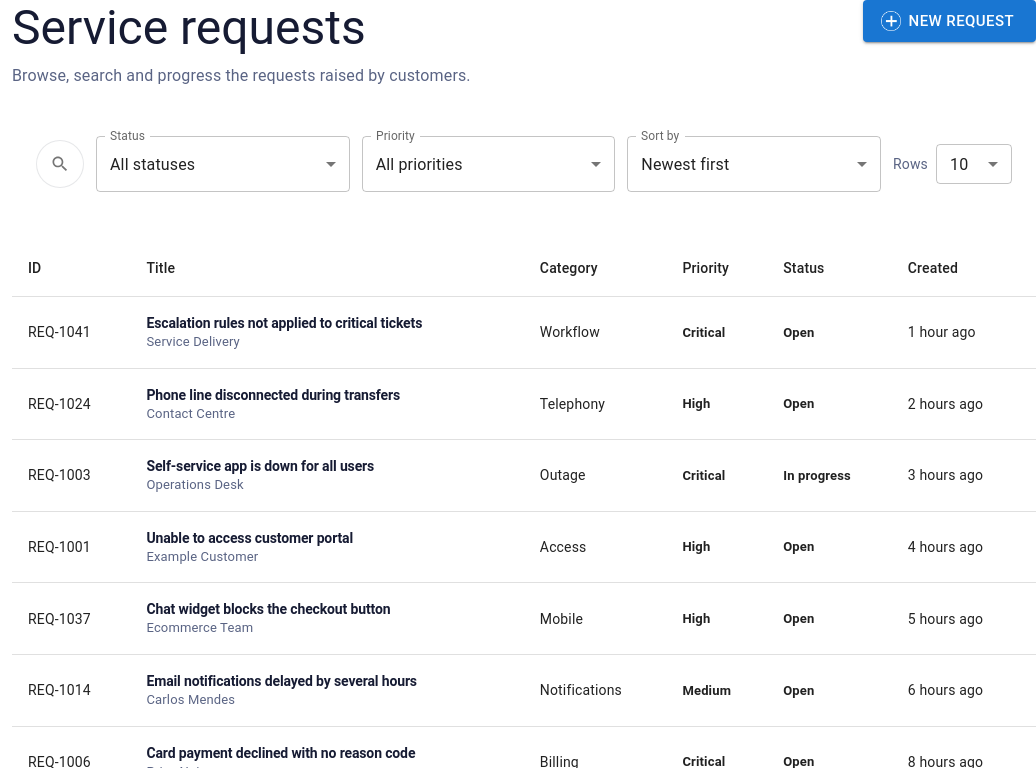
Test: RequestListPage › shows an empty state with a way back when nothing matches
The width and height of the screenshot is (1036, 768).
expect the text "REQ-1001" is shown: met, box top-left (12, 511), bottom-right (130, 583)
Click the button named "Search requests" at (60, 164), box top-left (36, 140), bottom-right (84, 188)
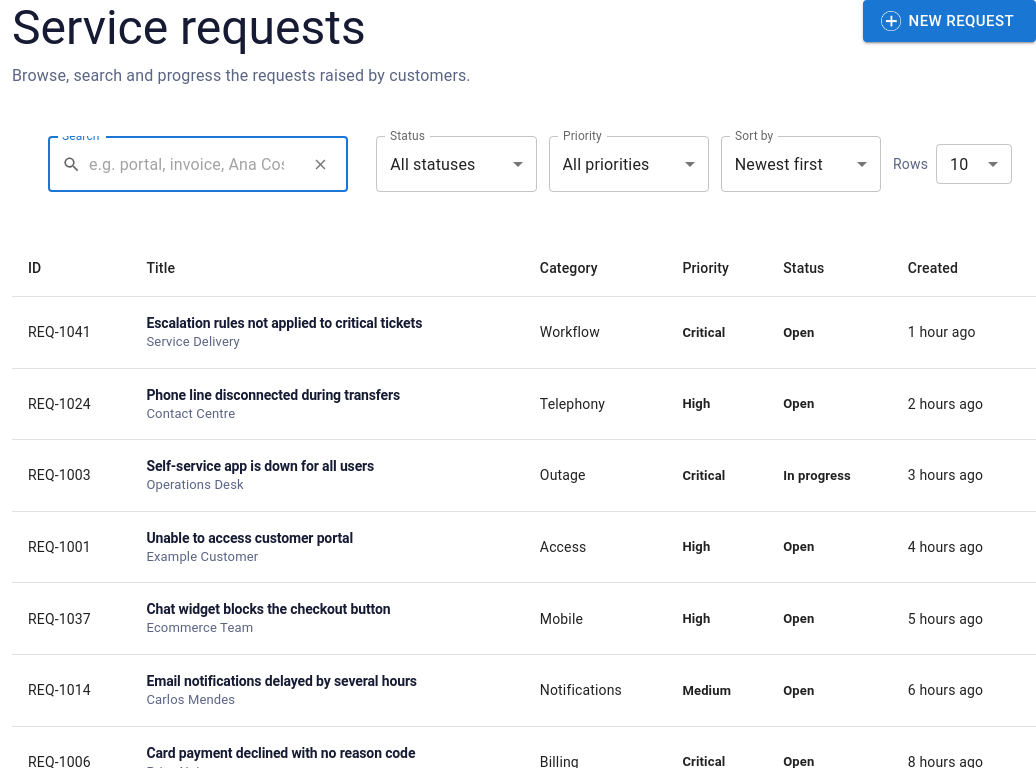
Type "zzzzz-no-such-request" into the search field labelled "Search" at (194, 164), box top-left (89, 136), bottom-right (299, 192)
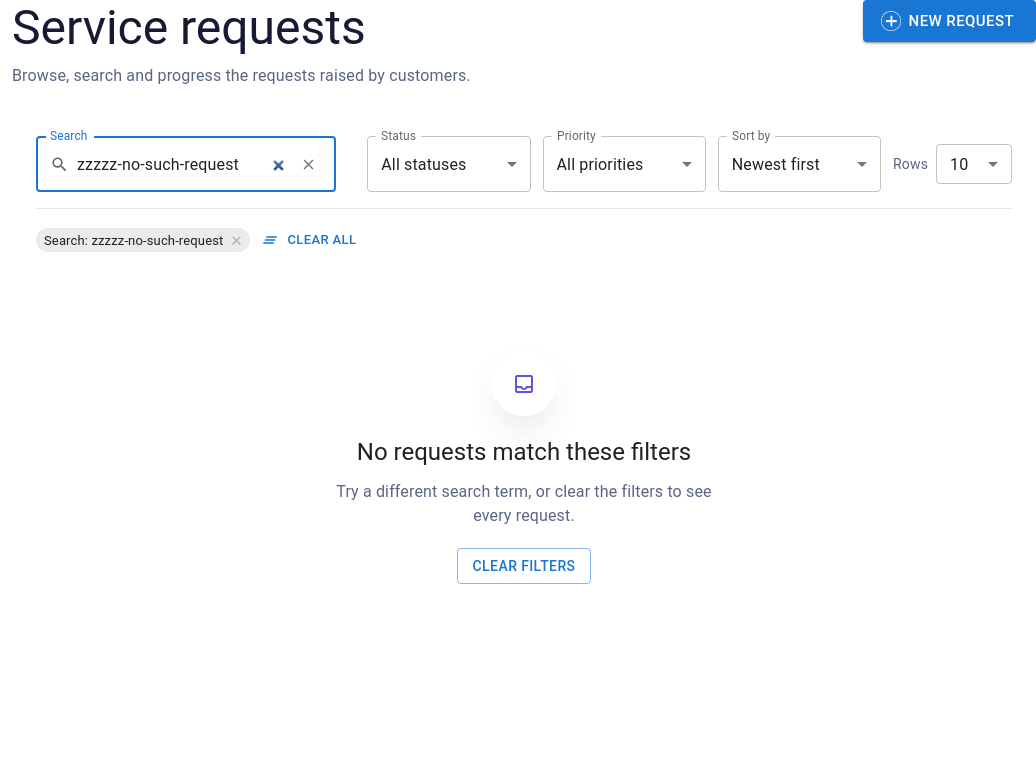
expect the heading "No requests match these filters" is shown: met, box top-left (357, 436), bottom-right (691, 468)
Click the button "Clear filters" at (524, 566), box top-left (457, 548), bottom-right (591, 584)
(page scrolled)
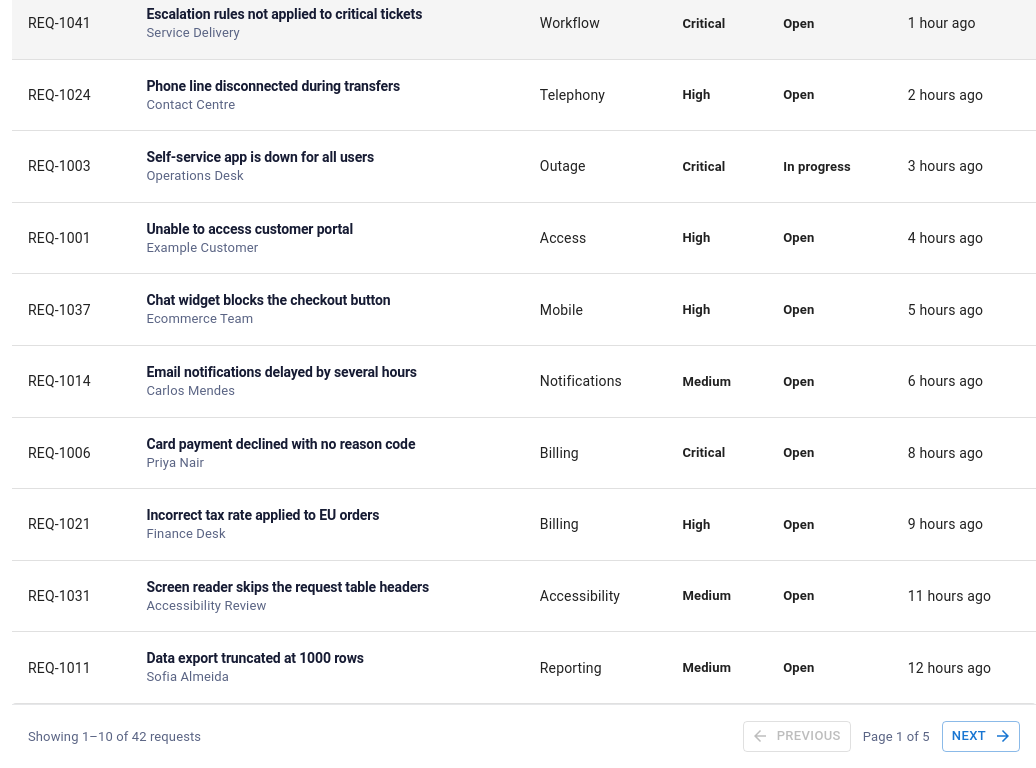
expect the text "Showing 1–10 of 42 requests" is shown: met, box top-left (28, 727), bottom-right (201, 746)
